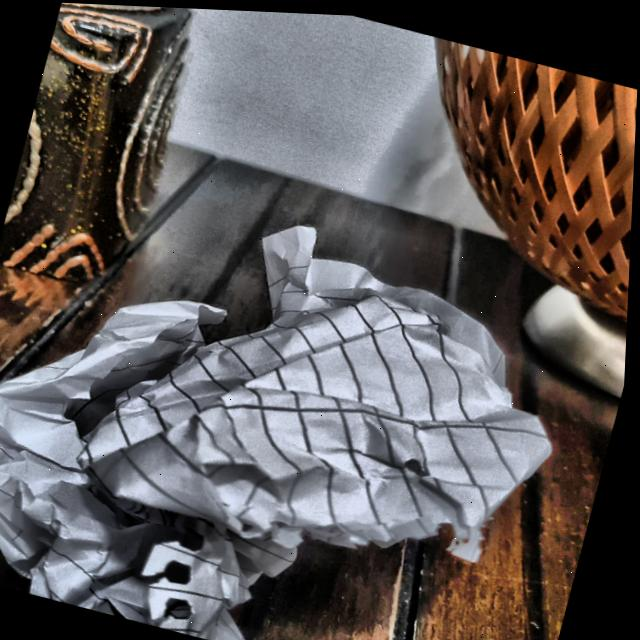paper: (0, 180, 573, 640)
